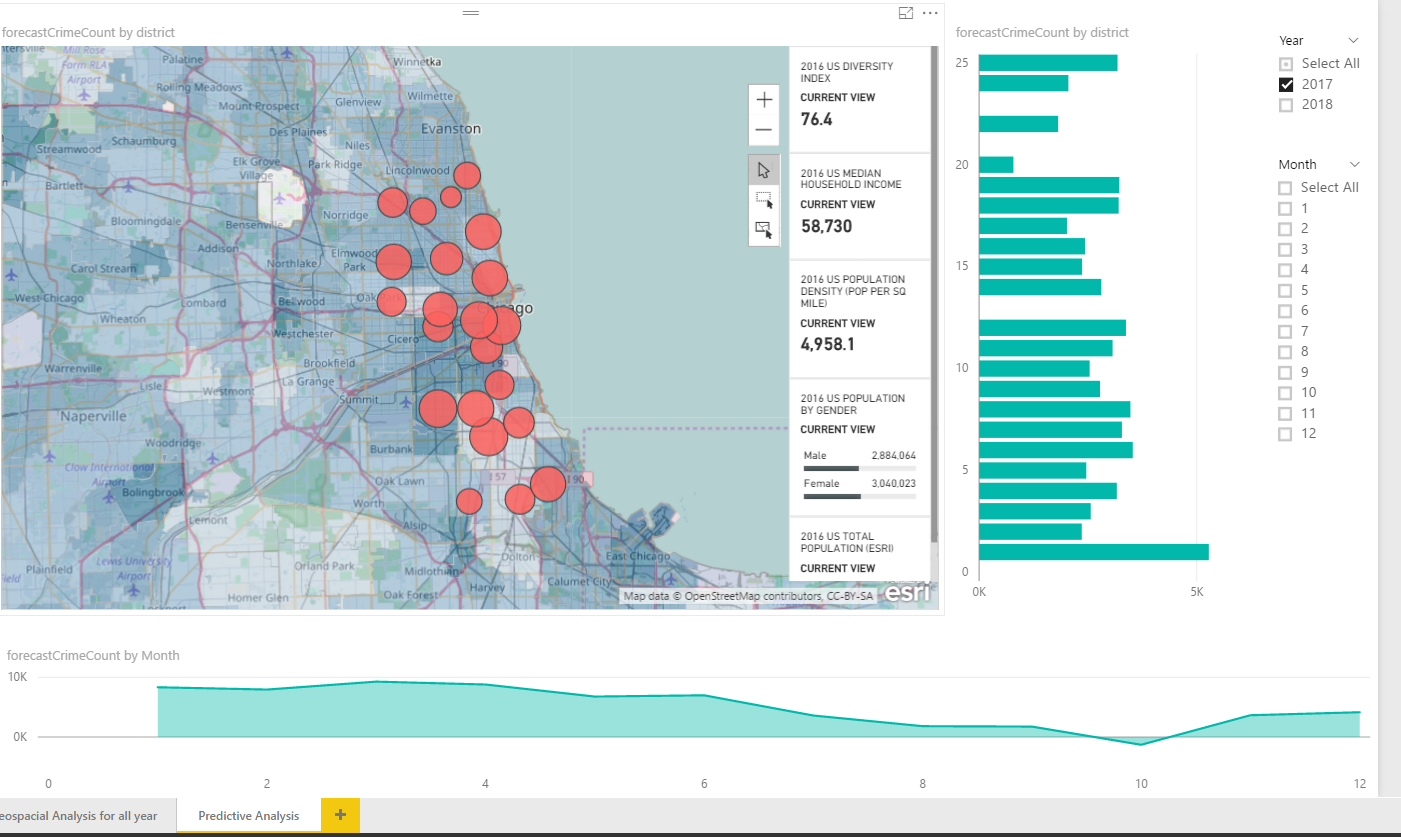

Layout of this report page (visuals, bound fields, positions):
{"tool":"powerbi","page":{"name":"Predictive Analysis ","canvas":[1280,720],"ordinal":1},"visuals":[{"type":"esriVisual","fields":{"Size":["Sum(Predictions_all_districts (2).forecastCrimeCount)"],"Latitude":["Predictions_all_districts (2).Latitude"],"Longitude":["Predictions_all_districts (2).Longitude"],"Location":["Predictions_all_districts (2).district"]},"box":[0,2.8,879.4,549.5],"z":2},{"type":"slicer","fields":{"Values":["Predictions_all_districts (2).DateHierarchy.Year"]},"box":[1175.9,5.6,99.2,89.9],"z":3},{"type":"clusteredBarChart","fields":{"Y":["Sum(Predictions_all_districts (2).forecastCrimeCount)"],"Category":["Predictions_all_districts (2).district"]},"box":[884,2.8,280.8,544.9],"z":4},{"type":"slicer","fields":{"Values":["Predictions_all_districts (2).DateHierarchy.Month"]},"box":[1175,120.5,101,300.2],"z":4},{"type":"areaChart","fields":{"Category":["Predictions_all_districts (2).DateHierarchy.Month"],"Y":["Sum(Predictions_all_districts (2).forecastCrimeCount)"]},"box":[4.6,580.1,1274.1,139.9],"z":5}]}

Visuals, with their boxes on the page's 1280x720 design canvas (x1, y1, x2, y2). These are canvas units, not pixel positions in the 1401x837 screenshot, which may show the page scaled, cropped or inside an application window:
esriVisual - Sum(Predictions_all_districts (2).forecastCrimeCount) x Predictions_all_districts (2).Latitude: (x1=0, y1=3, x2=879, y2=552)
slicer - Predictions_all_districts (2).DateHierarchy.Year: (x1=1176, y1=6, x2=1275, y2=96)
clusteredBarChart - Sum(Predictions_all_districts (2).forecastCrimeCount) x Predictions_all_districts (2).district: (x1=884, y1=3, x2=1165, y2=548)
slicer - Predictions_all_districts (2).DateHierarchy.Month: (x1=1175, y1=120, x2=1276, y2=421)
areaChart - Predictions_all_districts (2).DateHierarchy.Month x Sum(Predictions_all_districts (2).forecastCrimeCount): (x1=5, y1=580, x2=1279, y2=720)
